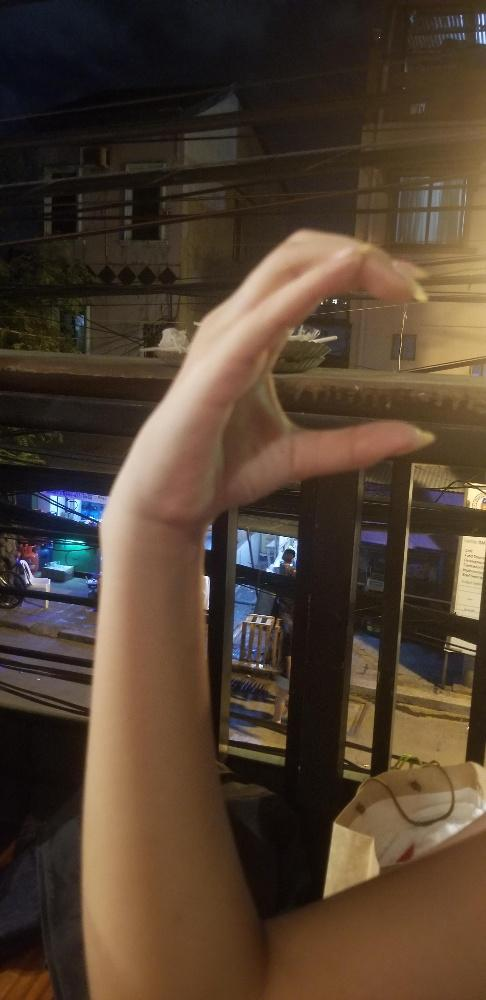c: (126, 223, 440, 537)
